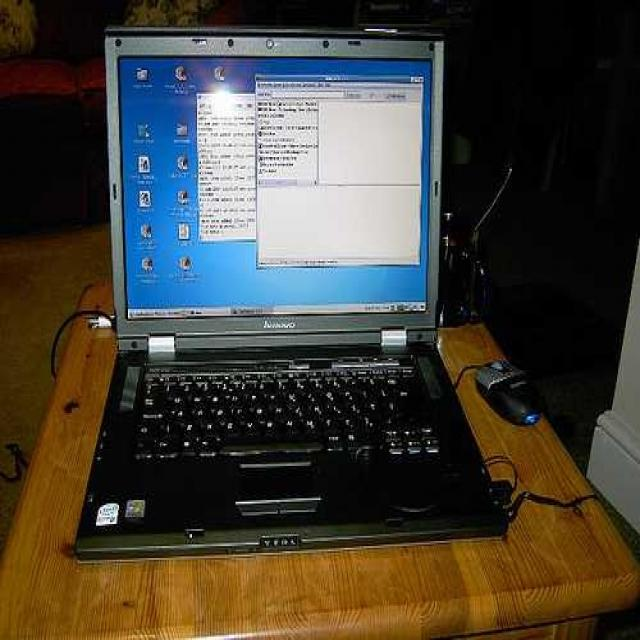laptop: (74, 0, 507, 576)
